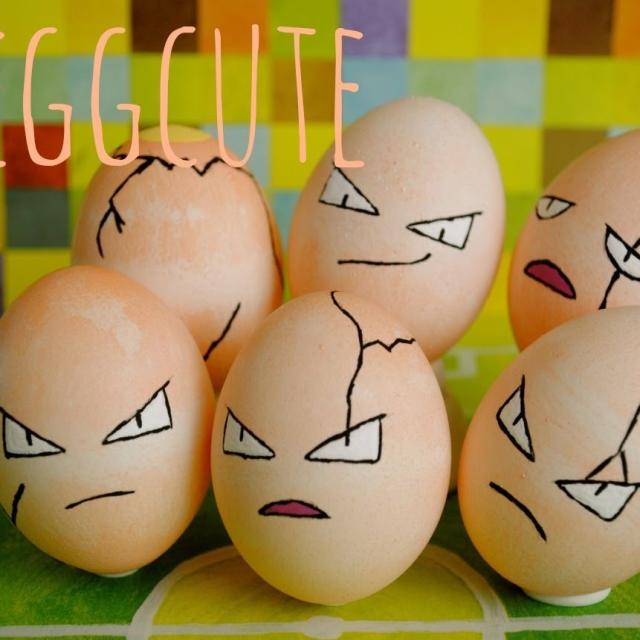Exeggcute: (0, 112, 640, 591)
